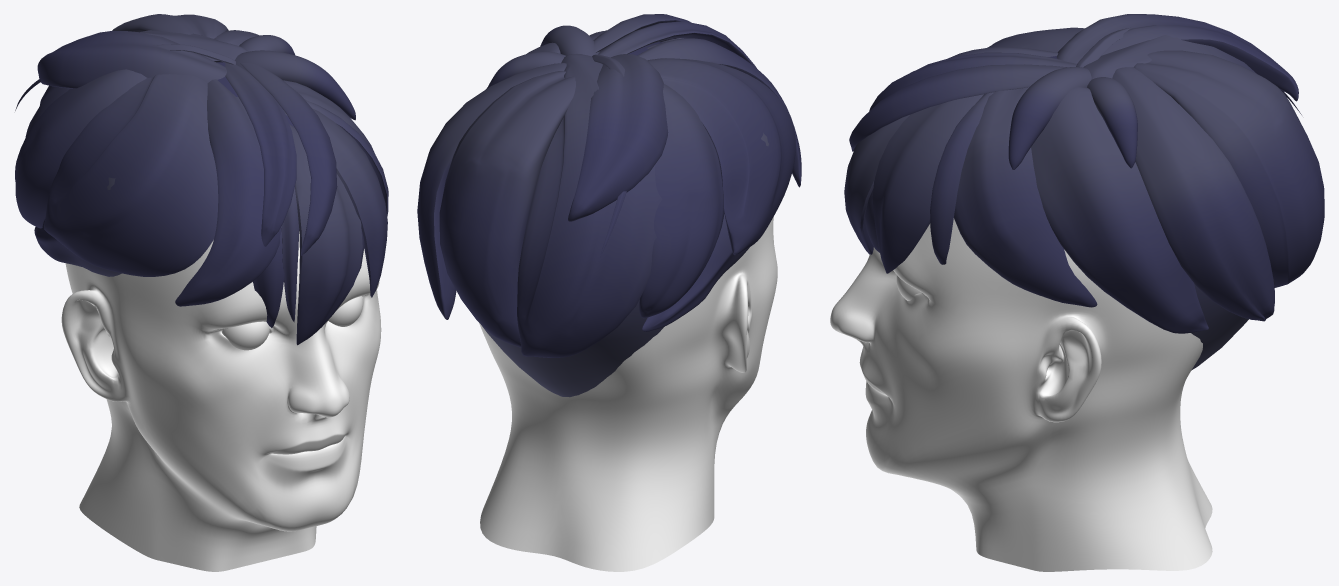
File: fullfigure3.glb
The picture shows the model from 3 angles, left to right: view 1: azimuth 30°, elevation 25°; view 2: azimuth 150°, elevation 25°; view 3: azimuth 270°, elevation 25°; orthographic projection. The views are drawn at different scales.
Parts seen in each view (by area): view 1: Object_2.001, Cube, Sphere; view 2: Object_2.001, Cube; view 3: Object_2.001, Cube.
Part boxes in pixels (x1,y1,x2,y2): Object_2.001: [15, 14, 388, 345]; Cube: [61, 231, 381, 571]; Sphere: [222, 296, 362, 350]; Object_2.001: [417, 14, 801, 397]; Cube: [479, 217, 777, 571]; Object_2.001: [844, 14, 1324, 370]; Cube: [830, 218, 1212, 571].
Size of the model in its own units: 1.17 by 1.8 by 1.65.
Materials: 3 (1 with a texture image).
